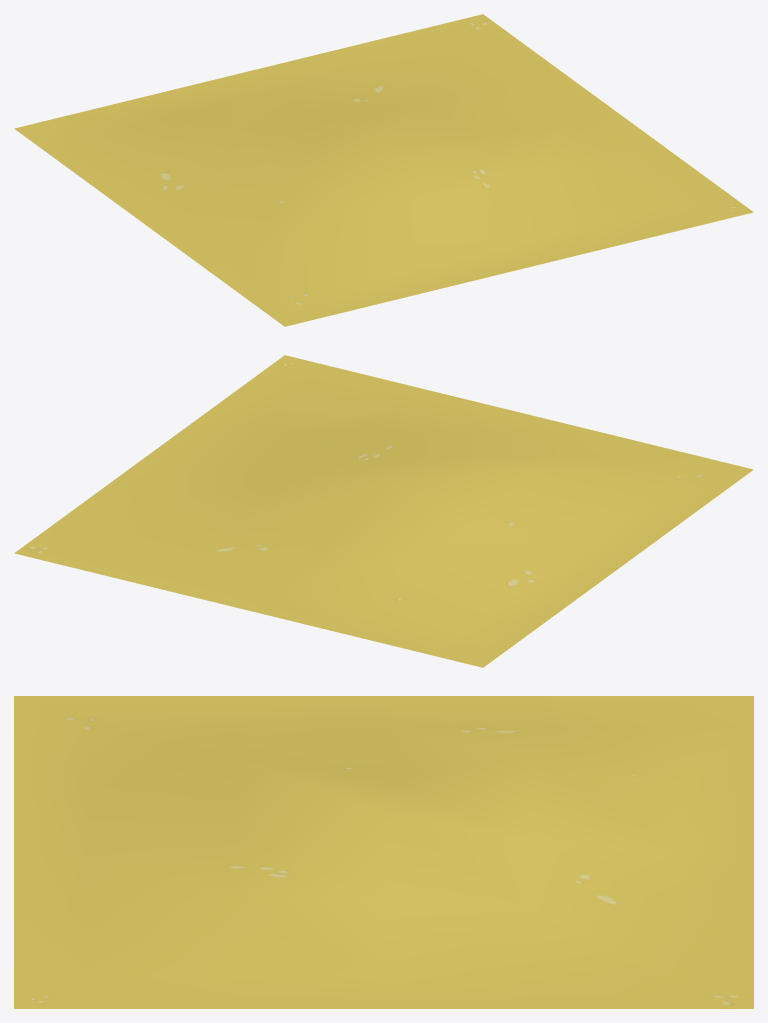
File: Sand_Plane_Medium_A.fbx
The picture shows the model from 3 angles, top to bottom: view 1: azimuth 30°, elevation 25°; view 2: azimuth 150°, elevation 25°; view 3: azimuth 270°, elevation 25°; orthographic projection. The views are drawn at different scales.
Visible parts, largest first — view 1: Sand_Plane_Medium_A; view 2: Sand_Plane_Medium_A; view 3: Sand_Plane_Medium_A.
Boxes of the visible parts, box(x1,y1,x2,y2) form: Sand_Plane_Medium_A: box(14, 14, 753, 326); Sand_Plane_Medium_A: box(14, 355, 753, 667); Sand_Plane_Medium_A: box(14, 696, 753, 1008).
Size of the model in its own units: 2000 by 2000 by 117.
1 material, 1 textured.
